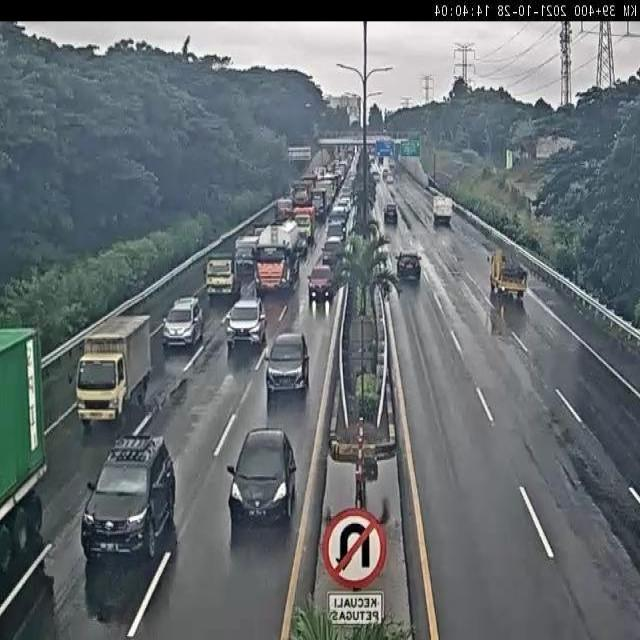Car: (82, 432, 176, 560), (226, 419, 301, 526), (264, 330, 310, 397), (225, 288, 268, 350), (163, 297, 204, 348), (204, 255, 240, 302), (307, 264, 335, 304), (396, 252, 422, 282), (293, 212, 314, 246), (331, 198, 351, 230), (322, 238, 342, 268), (326, 220, 345, 247), (274, 197, 293, 224), (383, 204, 398, 224), (335, 163, 346, 181), (253, 225, 267, 238), (385, 170, 394, 184), (372, 168, 379, 182), (382, 168, 389, 180)
Truck: (0, 331, 49, 608), (72, 312, 154, 420), (255, 220, 303, 296), (489, 249, 529, 299), (234, 235, 261, 288), (432, 194, 453, 225)
